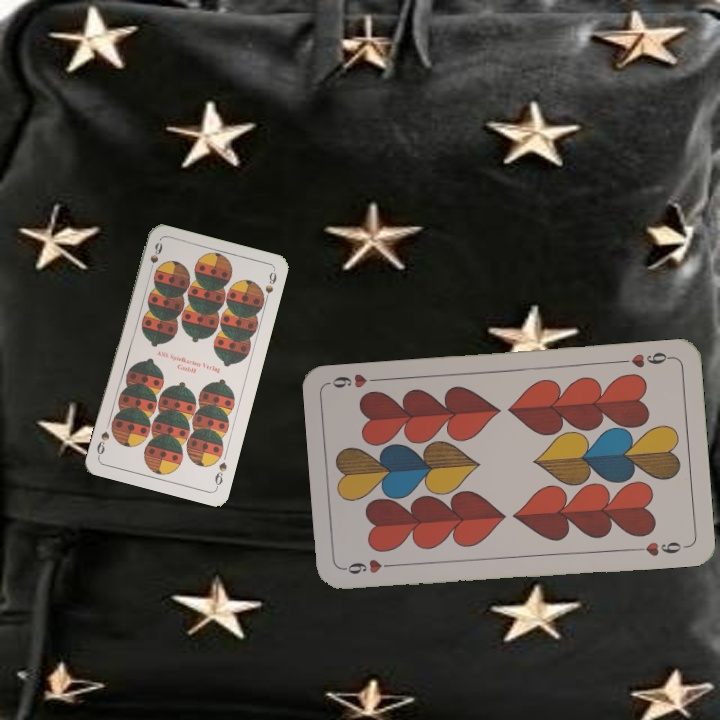H9: (616, 348, 675, 371), (341, 555, 400, 577)
S9: (145, 239, 165, 278), (211, 458, 229, 491)
